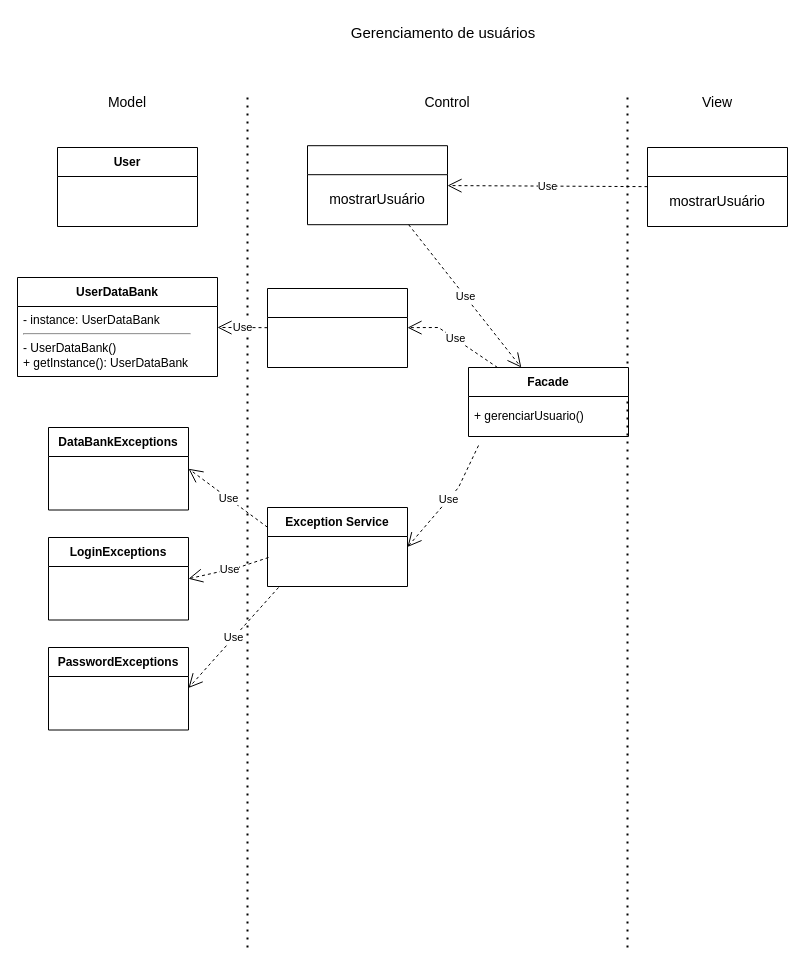
Some shapes in this 805 by 966 pixel diagram are drawn without their labels. The box of each missing label's shape, as (x1, y1, x2, y2) in pixels:
UserController: (306, 145, 448, 225)
UserService: (266, 288, 408, 368)
UserView: (646, 146, 788, 226)
